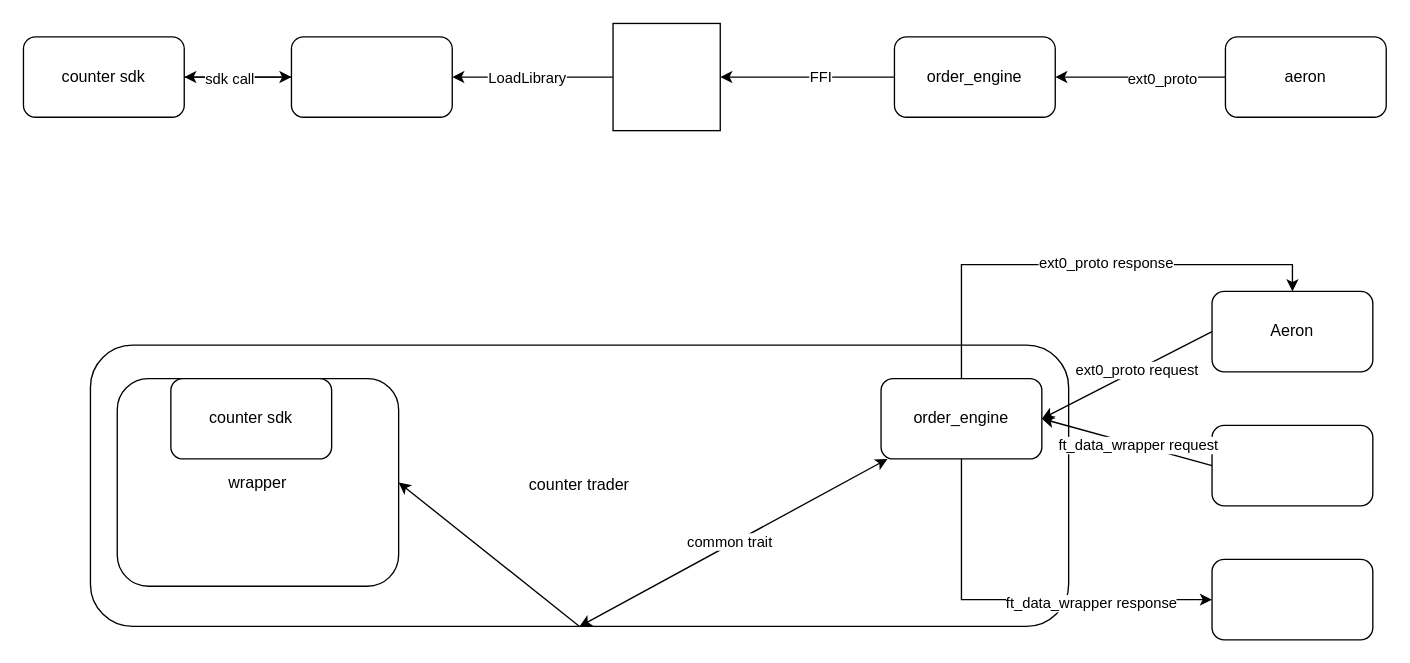
This 1410x663 diagram has some shape labels left out. The shapes that lost their labels are listed below. From the top down, each one's centre as x and y in pixels, then its label:
At point (371, 76): "gateway".
At point (666, 76): "C brige".
At point (1292, 465): "grpc".
At point (1292, 599): "zmq".
